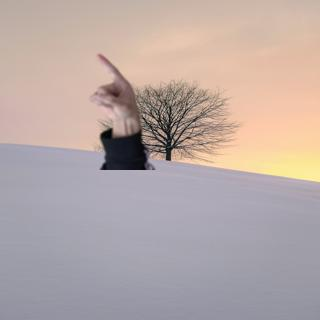IRRITATED: (85, 51, 139, 119)
